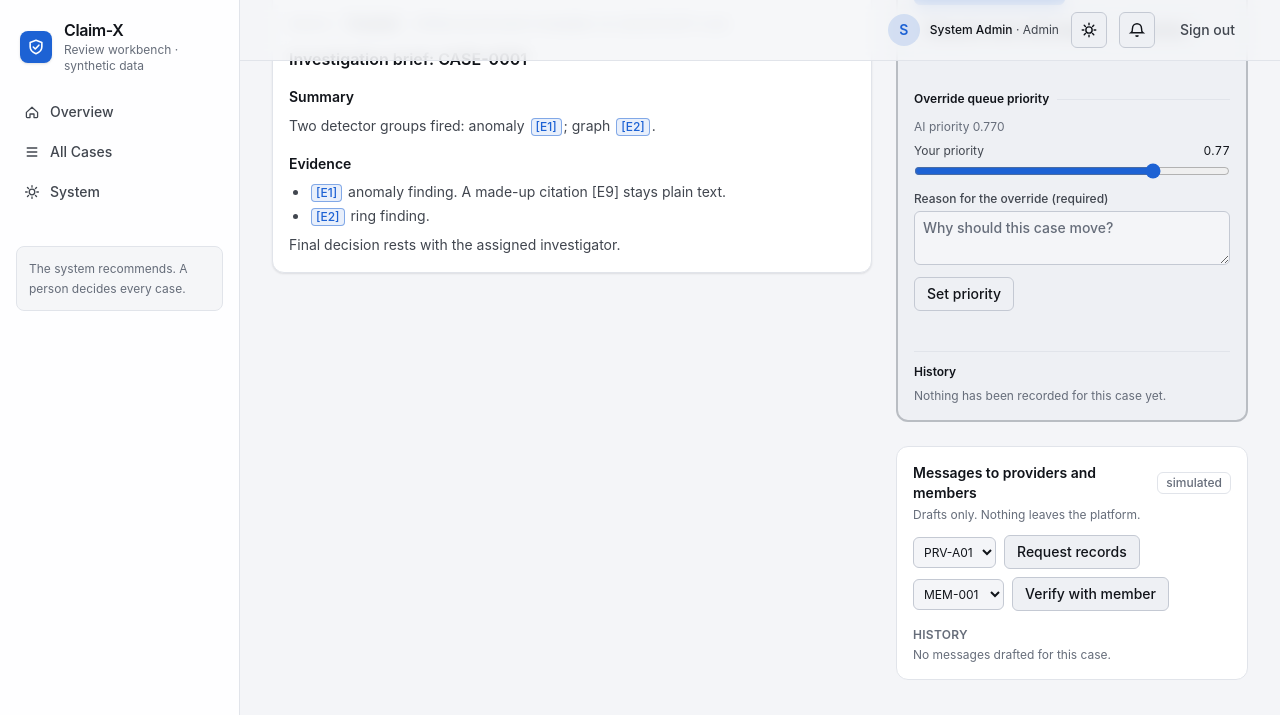
Test: messages to providers and members › creates a draft with the notice and lists it in the history with a status badge
(page scrolled)
Click the button "Request records": (1072, 552) [1004,535,1140,569]
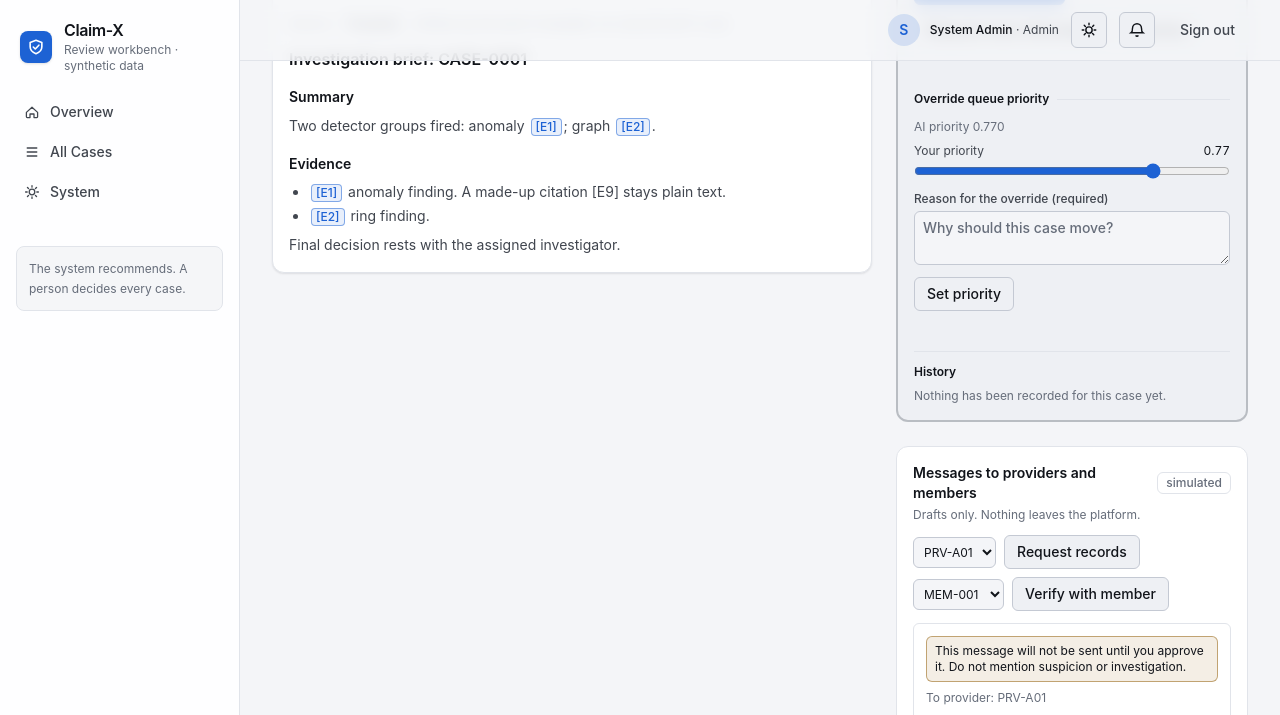
Expected: the button "Verify with member" is shown, [1012,577,1169,611]
Result: the text "This message will not be sent until you approve it. Do not mention suspicion or investigation." is shown at [935,643,1204,674]
